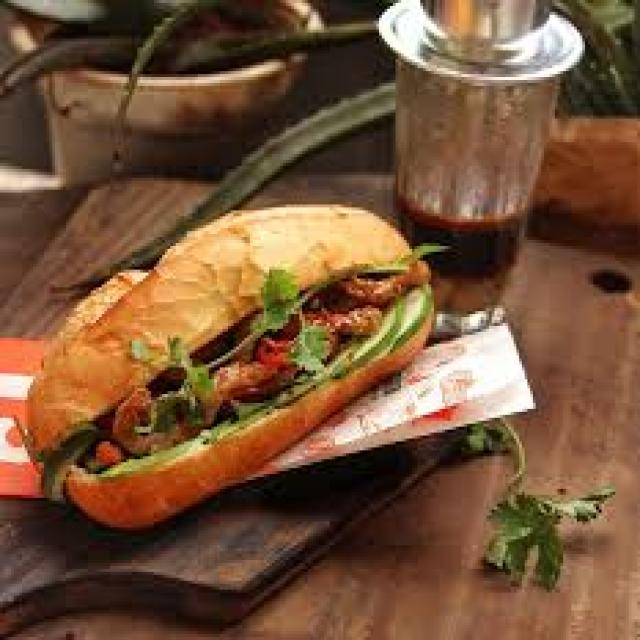banh mi: (27, 207, 428, 524)
